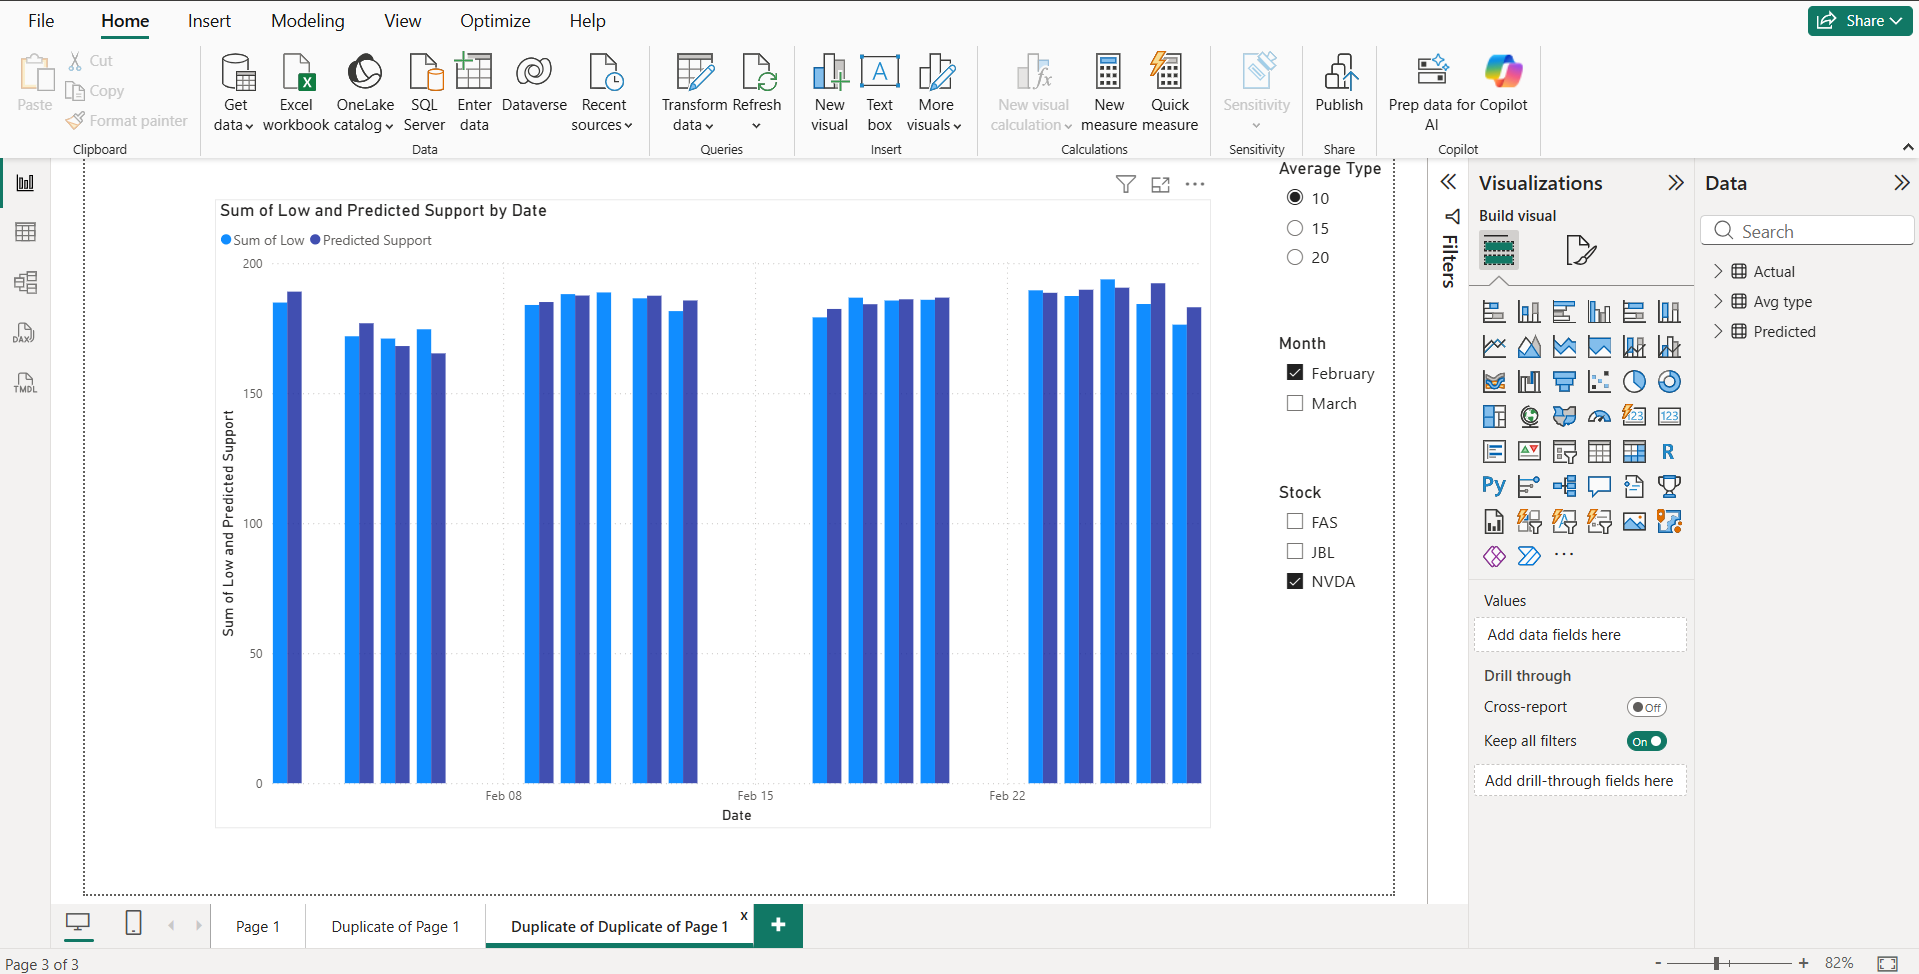

This screenshot's page, from the dashboard's own definition file:
{"tool":"powerbi","page":{"name":"Duplicate of Duplicate of Page 1","canvas":[1280,720],"ordinal":2},"visuals":[{"type":"slicer","title":"Average Type","fields":{"Values":["Avg type.Days"]},"box":[1163.3,0,116.7,123.3],"z":0},{"type":"slicer","title":"Stock","fields":{"Values":["Actual.Stock Name"]},"box":[1163.3,316.7,116.7,376.7],"z":1000},{"type":"slicer","title":"Month","fields":{"Values":["Predicted.Date.Variation.Date Hierarchy.Month"]},"box":[1163.3,171.7,116.7,98.3],"z":2000},{"type":"clusteredColumnChart","fields":{"Category":["Actual.Date"],"Y":["Sum(Actual.Low)","Predicted.Predicted Support"]},"box":[126.7,40,975,615],"z":3000}]}

Visuals, with their boxes on the page's 1280x720 design canvas (x1, y1, x2, y2). These are canvas units, not pixel positions in the 1919x974 screenshot, which may show the page scaled, cropped or inside an application window:
"Average Type" slicer: {"left": 1163, "top": 0, "right": 1280, "bottom": 123}
"Stock" slicer: {"left": 1163, "top": 317, "right": 1280, "bottom": 693}
"Month" slicer: {"left": 1163, "top": 172, "right": 1280, "bottom": 270}
clusteredColumnChart - Actual.Date x Sum(Actual.Low): {"left": 127, "top": 40, "right": 1102, "bottom": 655}
